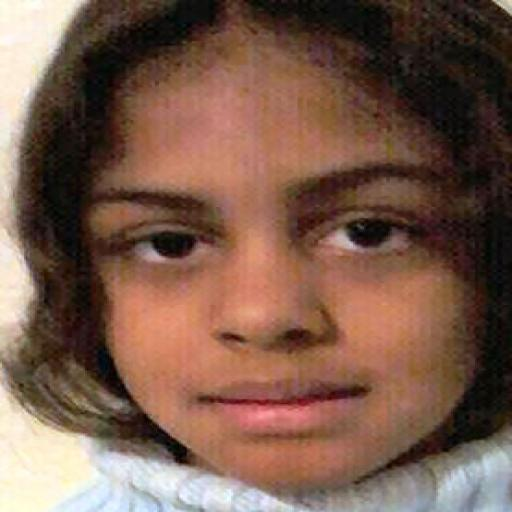Autism: (19, 1, 503, 440)
